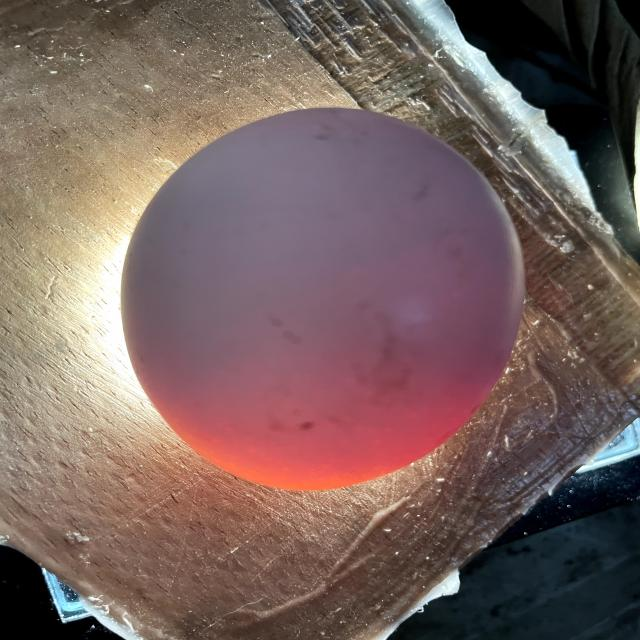fertile: (122, 109, 523, 490)
